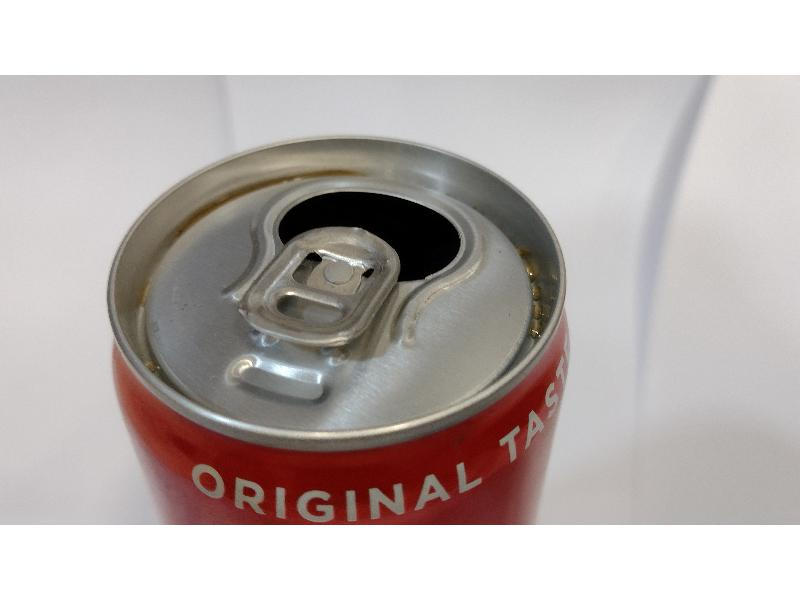can: (98, 122, 589, 521)
